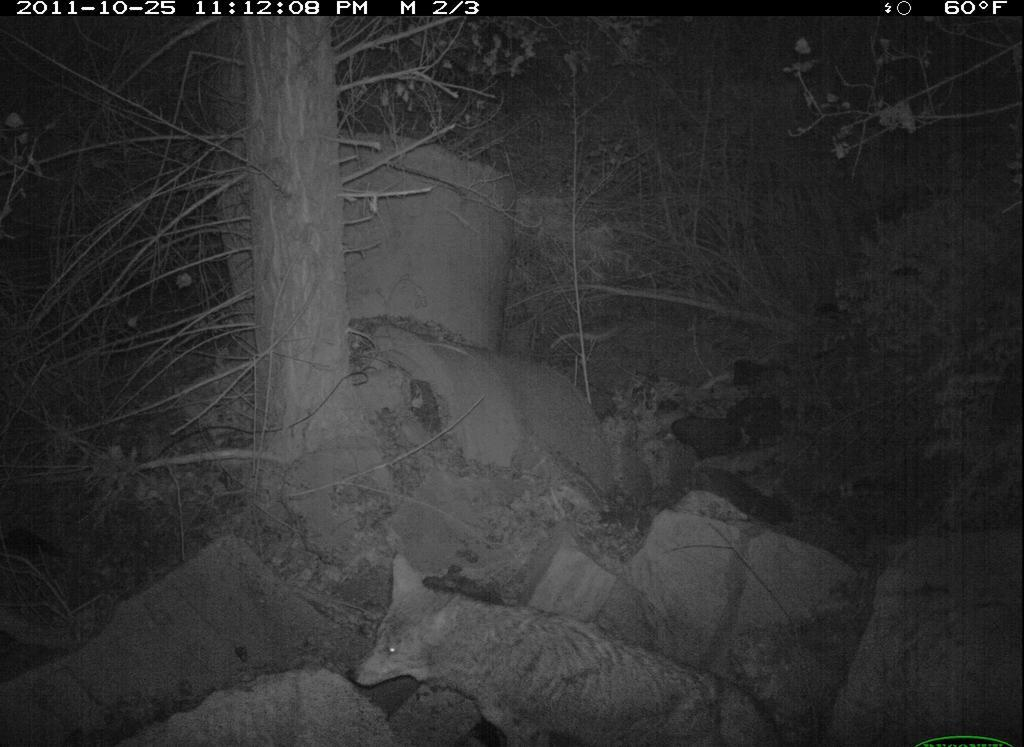coyote: (349, 550, 786, 745)
